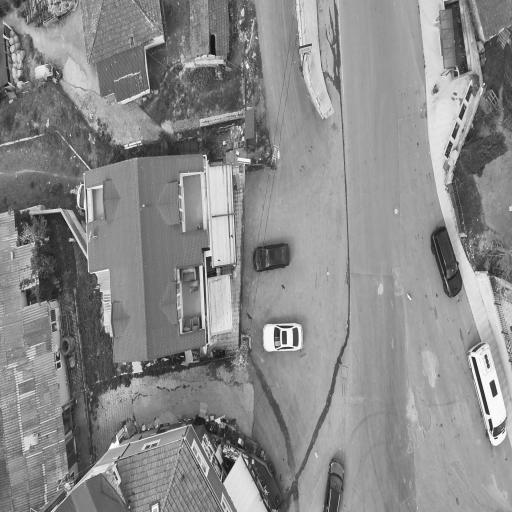car: (467, 343, 506, 446), (431, 226, 462, 296), (263, 322, 302, 350), (254, 243, 290, 271), (324, 459, 343, 511)
